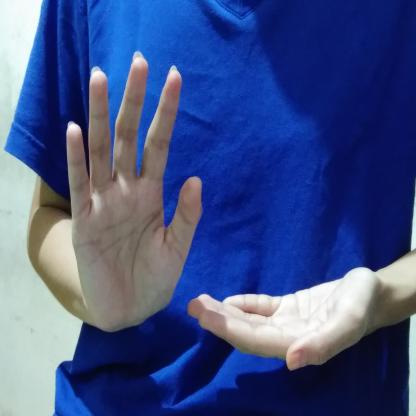hello: (55, 44, 388, 374)
